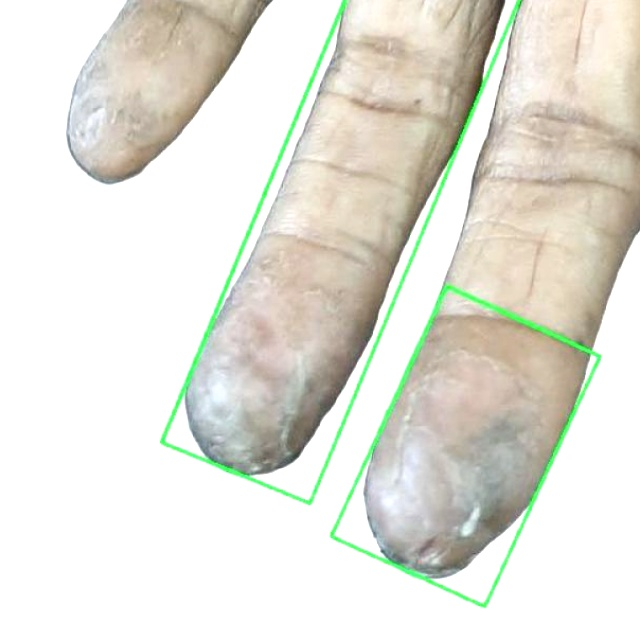Contact Dermatitis: (0, 0, 639, 639), (161, 0, 518, 504), (330, 286, 599, 607)
